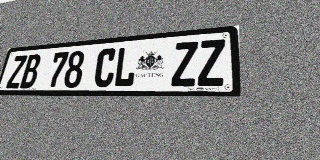7: (46, 52, 69, 88)
8: (62, 50, 86, 88)
B: (19, 54, 42, 88)
C: (93, 48, 117, 87)
L: (113, 46, 138, 87)
Z: (197, 39, 225, 86), (171, 41, 198, 86), (6, 55, 27, 88)
